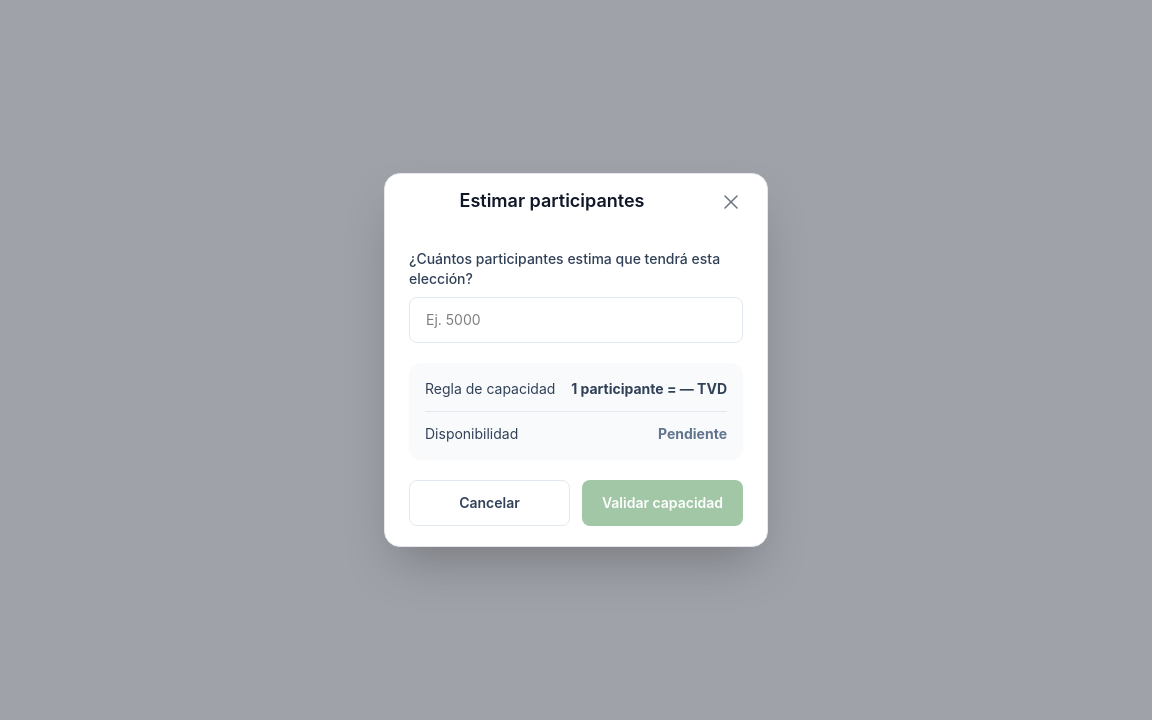
Scenario: Admin tenant estimate and insufficient balance modals › descarta respuestas obsoletas si cambia la estimacion antes de resolver
This screenshot has width=1152, height=720.
Step 1. Type "10" into the field labelled "¿Cuántos participantes estima que tendrá esta elección?" → {"x": 576, "y": 320}, box [409,297,743,343]
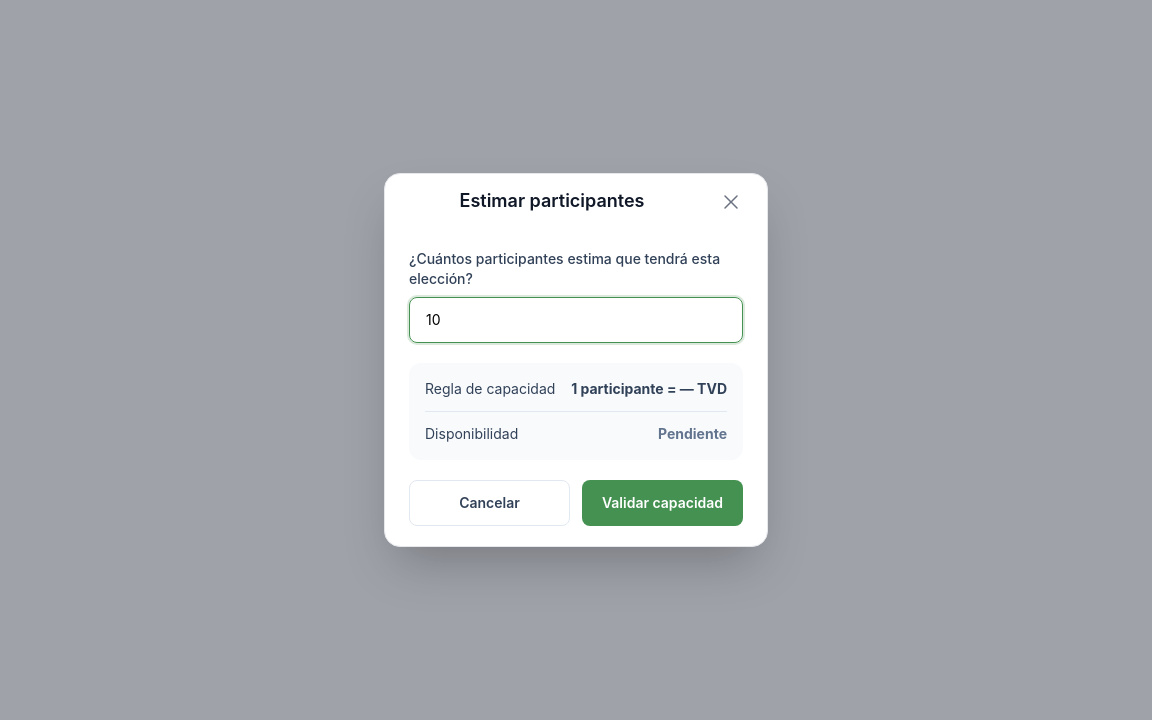
Step 2. Click the button "Validar capacidad" → {"x": 662, "y": 503}, box [582,480,743,526]
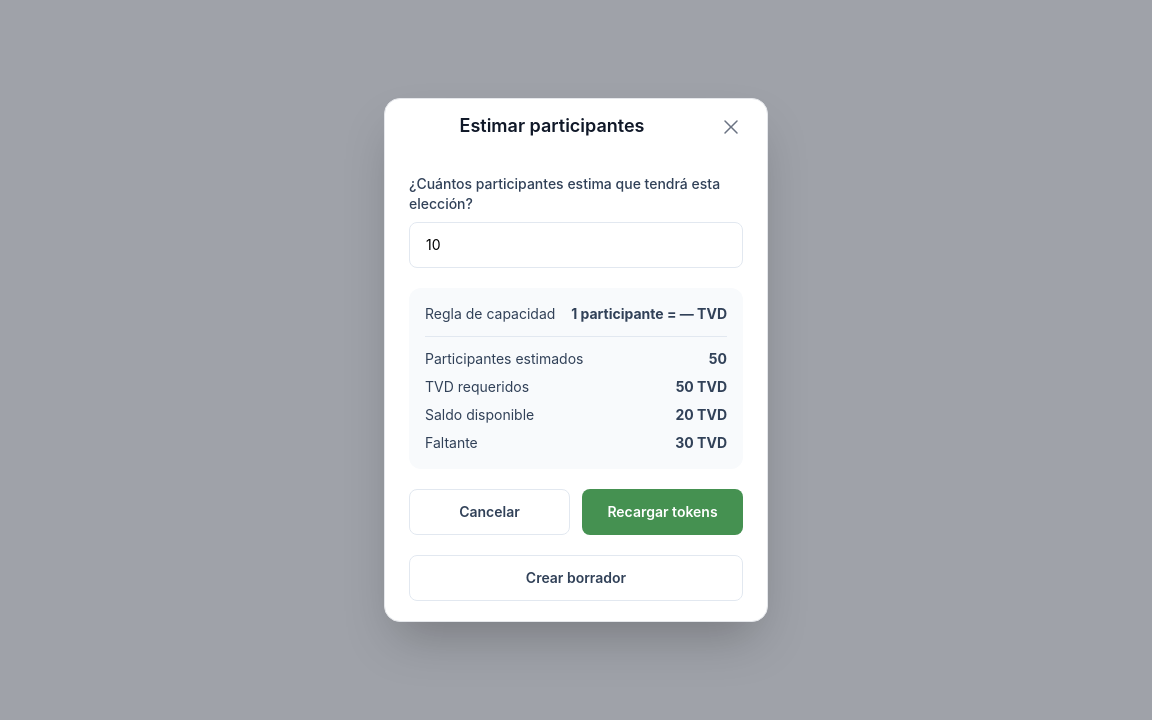
Step 3. Clear the field labelled "¿Cuántos participantes estima que tendrá esta elección?" → {"x": 576, "y": 245}, box [409,222,743,268]
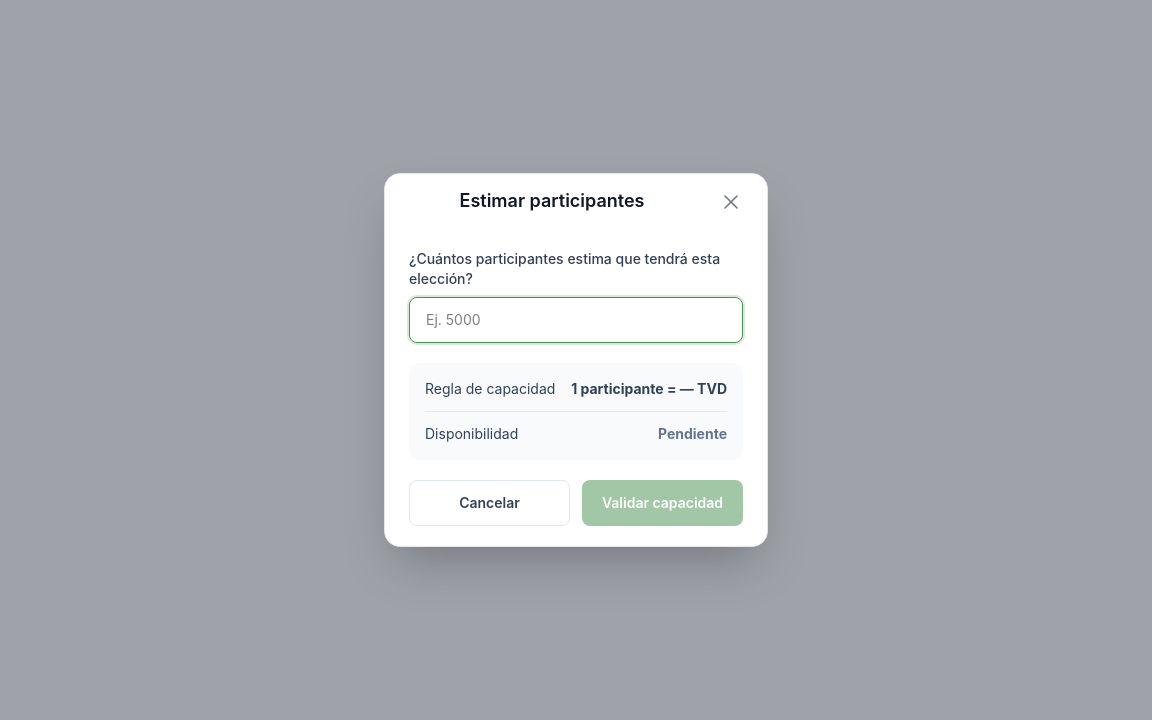
Step 4. Type "50" into the field labelled "¿Cuántos participantes estima que tendrá esta elección?" → {"x": 576, "y": 320}, box [409,297,743,343]
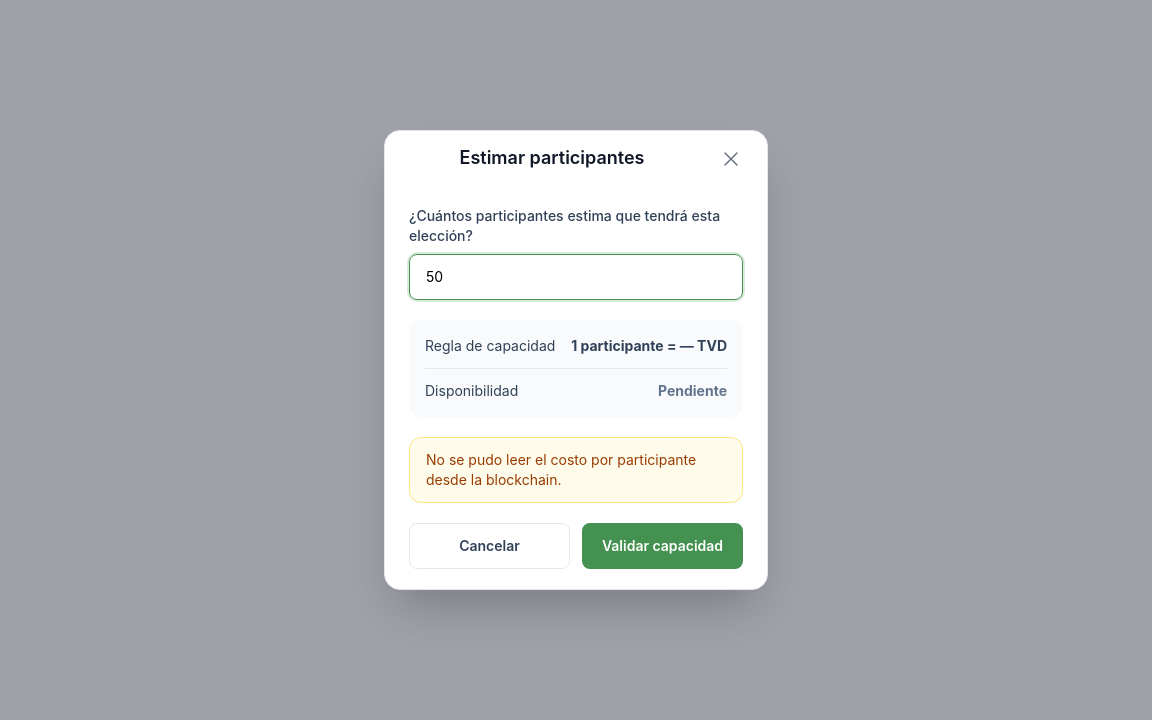
Expected: the text "TVD requeridos" is not shown
Step 5. Click the button "Validar capacidad" → {"x": 662, "y": 546}, box [582,523,743,569]
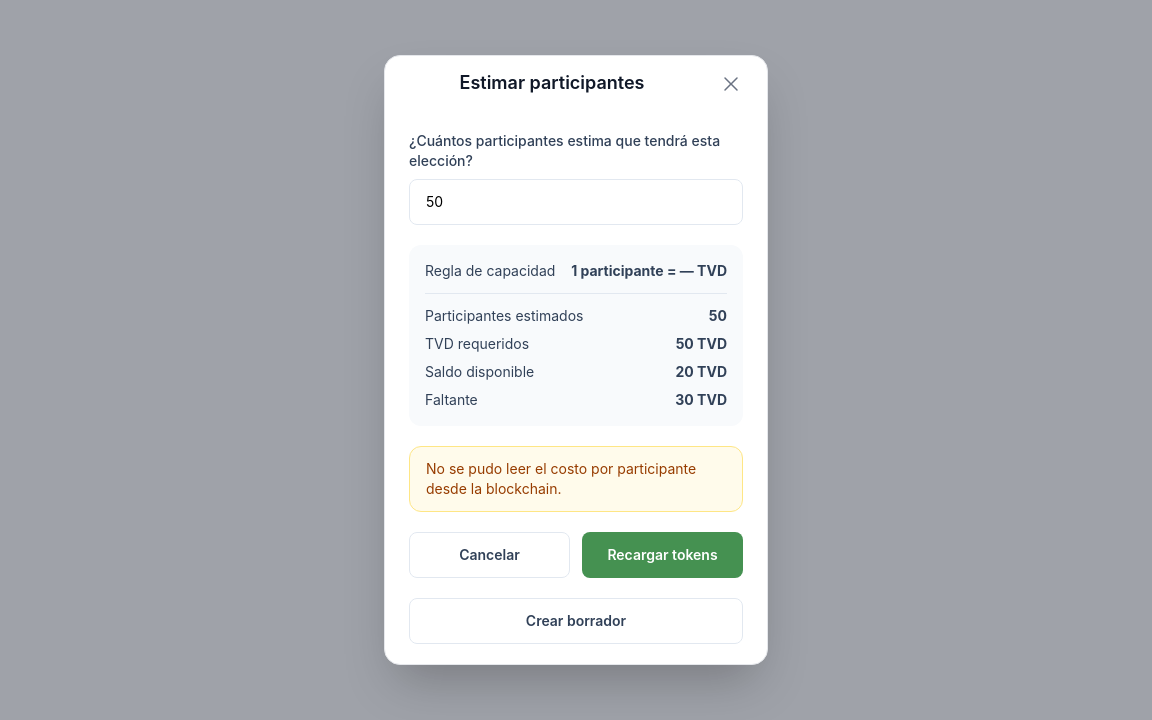
Expected: the text "Faltante" is shown, [425,390,478,410]
Expected: the text "50" is shown, [709,306,727,326]
